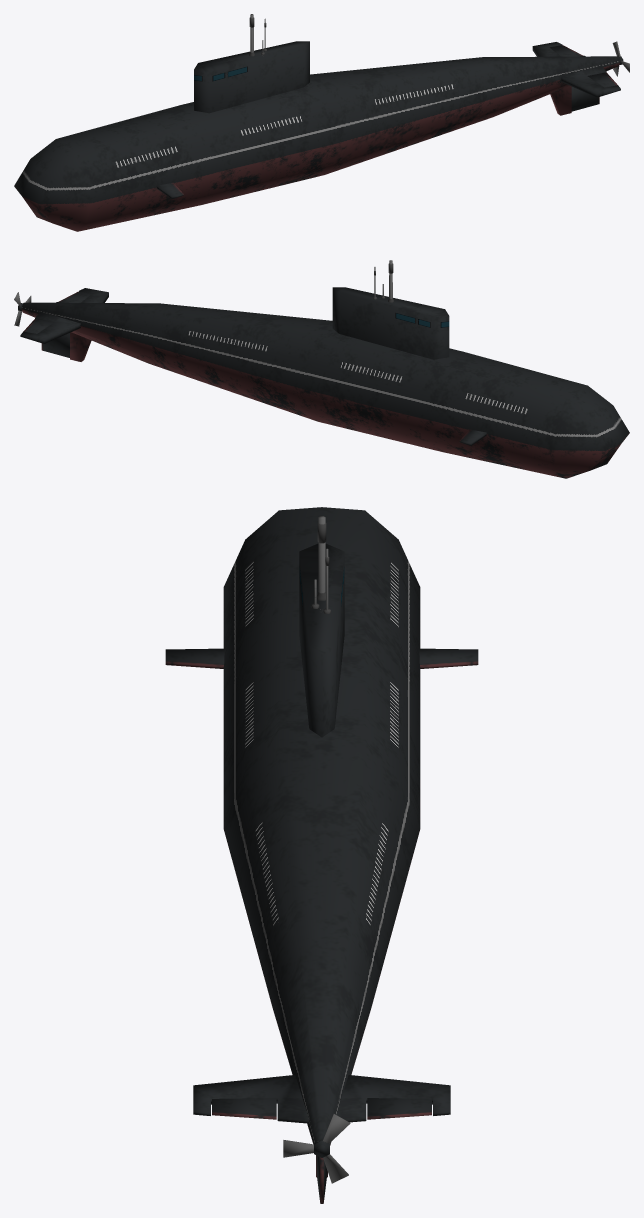
Rendered from Submarines.FBX.fbx.
The picture shows the model from 3 angles, top to bottom: view 1: azimuth 30°, elevation 25°; view 2: azimuth 150°, elevation 25°; view 3: azimuth 270°, elevation 25°; orthographic projection. The views are drawn at different scales.
Visible parts, largest first — view 1: Submarines; view 2: Submarines; view 3: Submarines.
Part boxes in pixels (x1,y1,x2,y2): Submarines: [14, 14, 629, 231]; Submarines: [14, 260, 629, 478]; Submarines: [165, 507, 478, 1203].
Bounding box in the file's own units: 3156 × 878 × 711.
